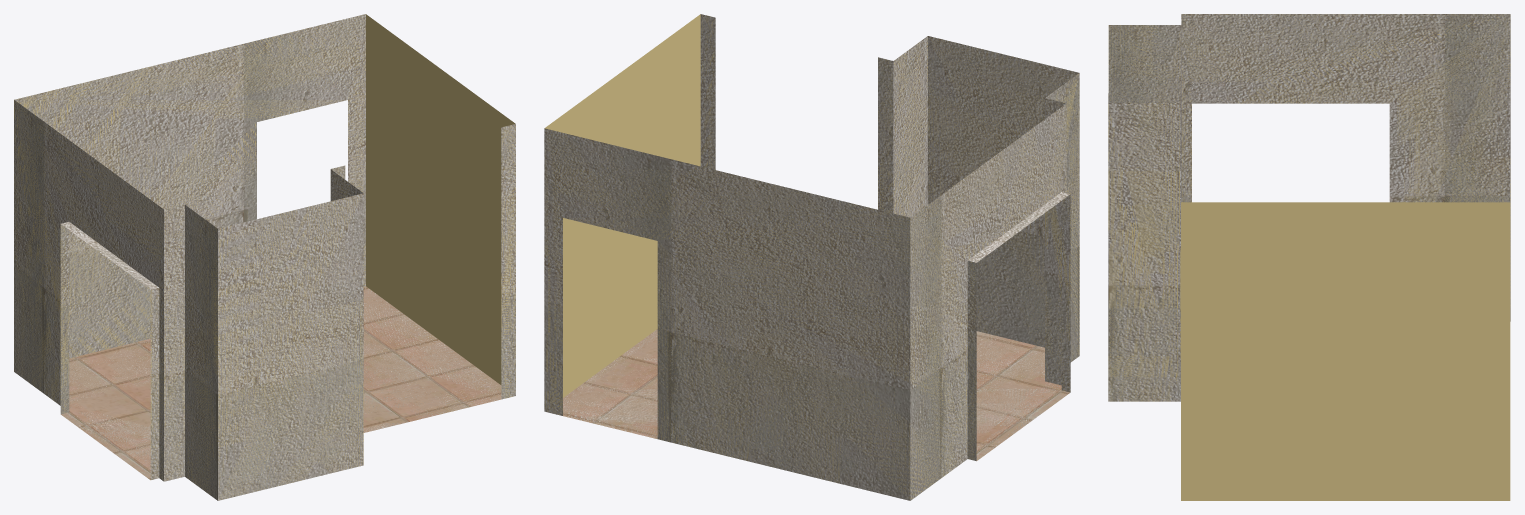
The model's file is COM029.obj.
3 renders of one model, left to right at view 1: azimuth 30°, elevation 25°; view 2: azimuth 150°, elevation 25°; view 3: azimuth 270°, elevation 25°, orthographic. The views are drawn at different scales.
Visible parts, largest first — view 1: Mesh1 COM029 Model; view 2: Mesh1 COM029 Model; view 3: Mesh1 COM029 Model.
Boxes of the visible parts, x1=… form: Mesh1 COM029 Model: x1=14, y1=14, x2=515, y2=500; Mesh1 COM029 Model: x1=544, y1=14, x2=1079, y2=500; Mesh1 COM029 Model: x1=1108, y1=14, x2=1510, y2=500.
Size of the model in its own units: 4.16 by 3 by 3.66.
3 materials, 2 textured.
